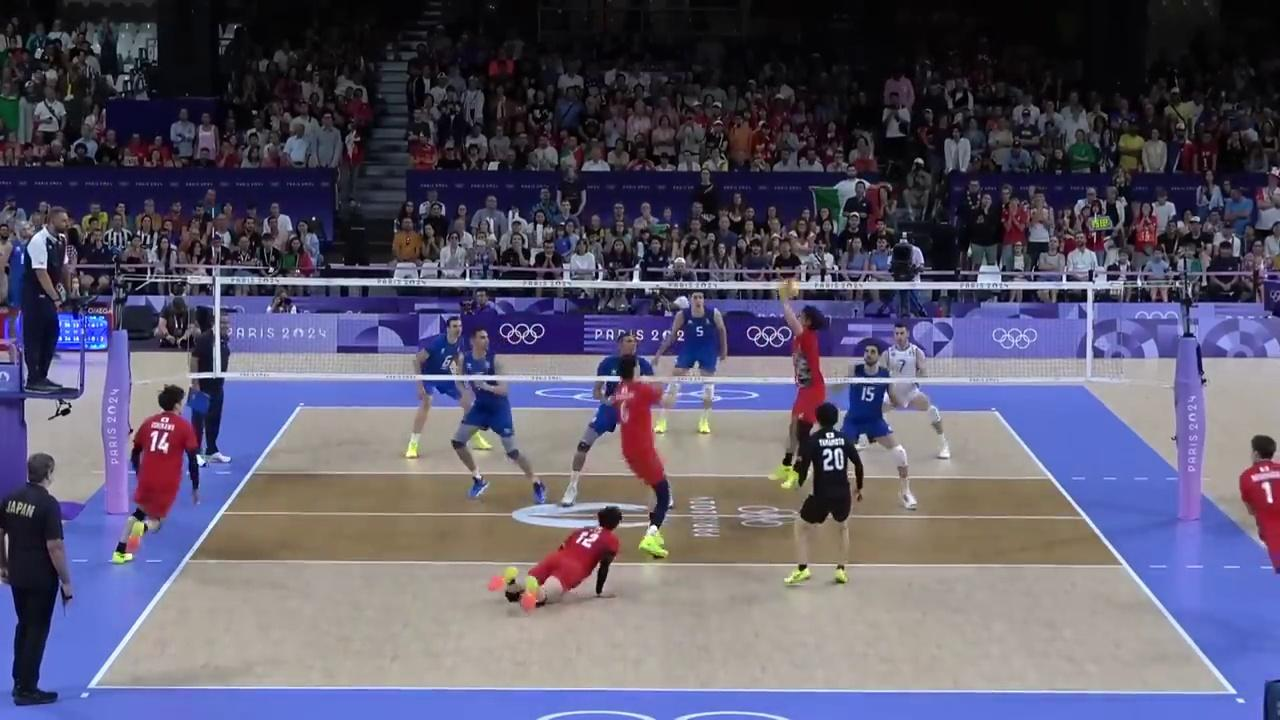ball: (778, 282, 797, 300)
